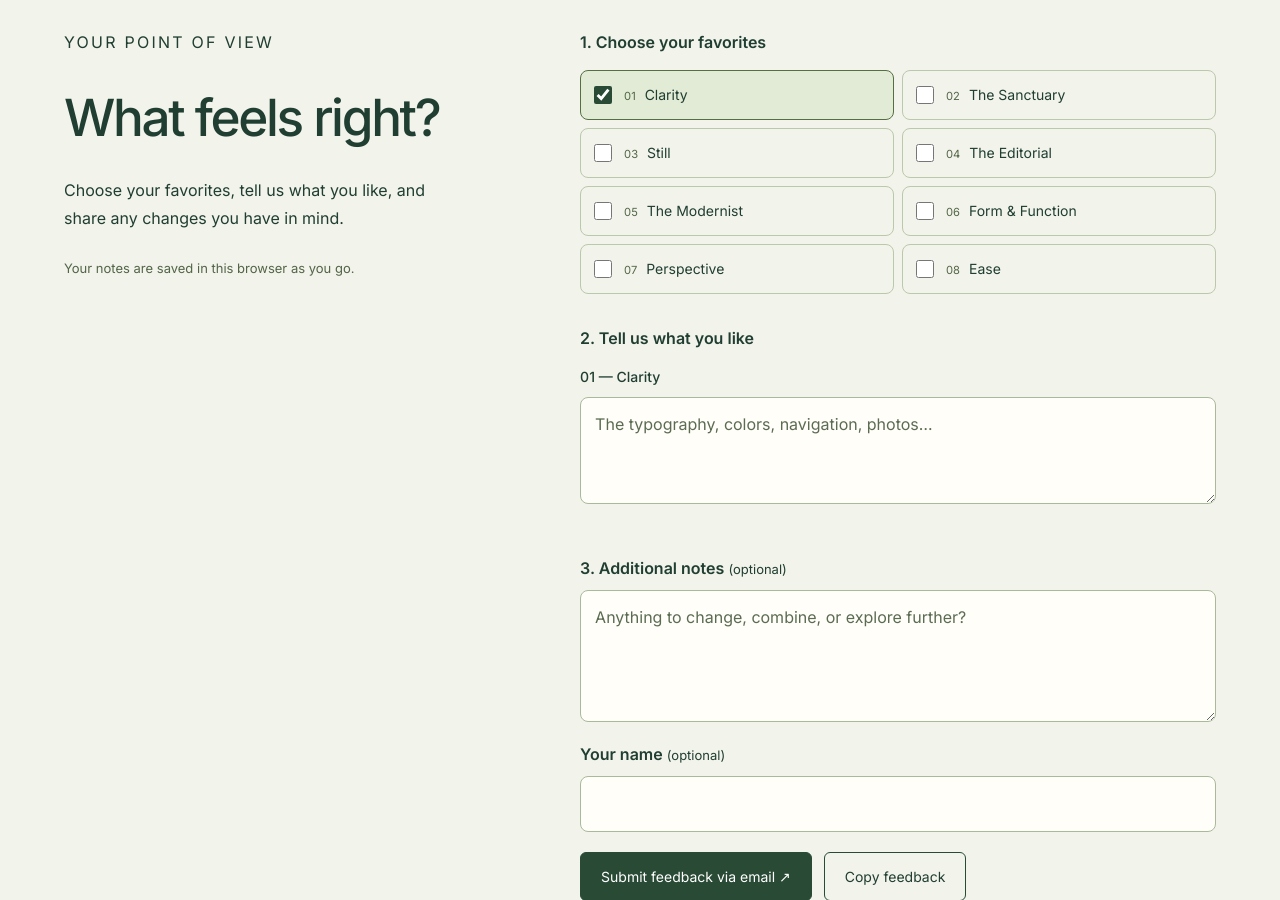
saves notes and synchronizes quick picks with card favorites
(page scrolled)
In the text box labelled "01 — Clarity": (898, 450) [580,397,1216,504], type "Love the navigation."
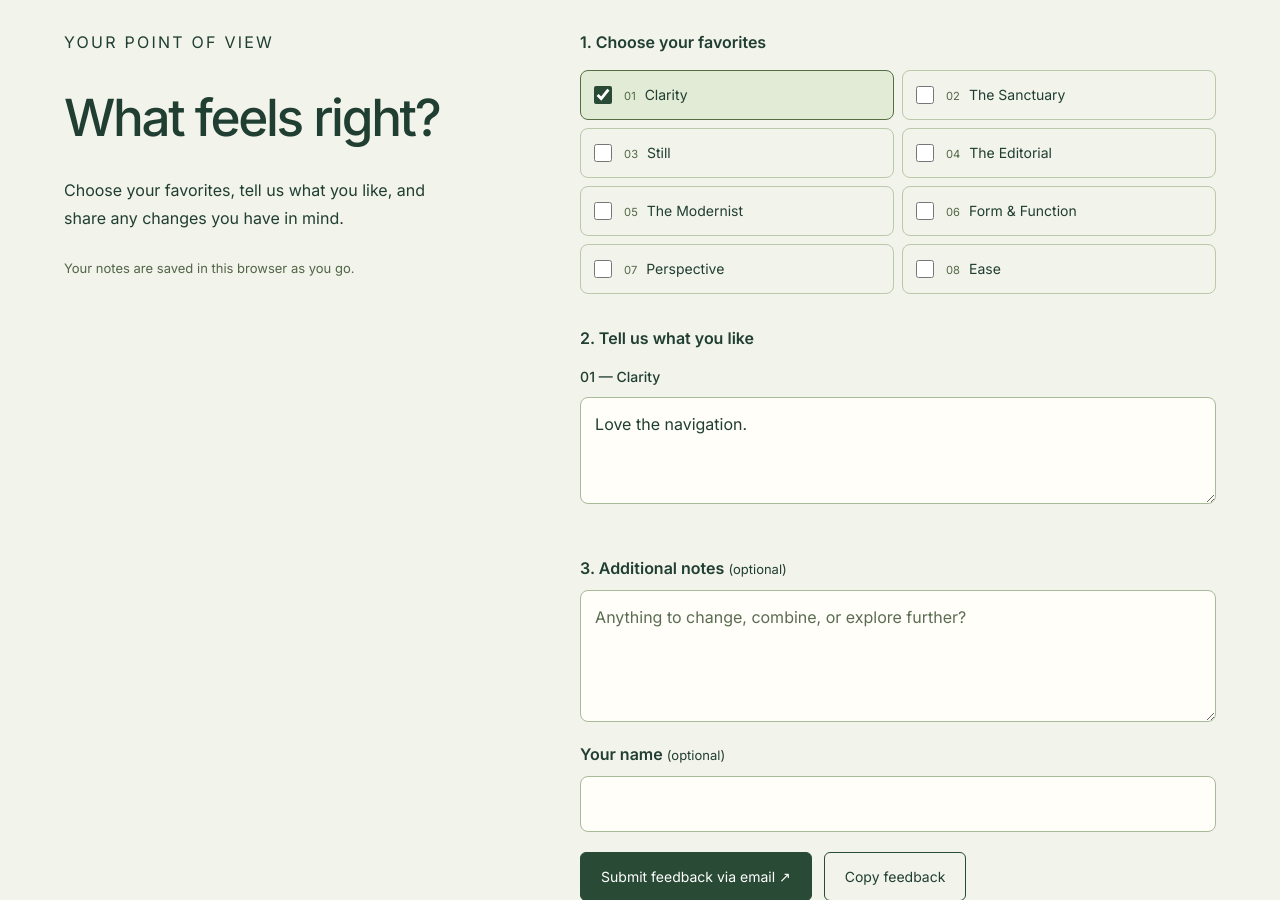
Click the checkbox labelled "03 Still": (603, 153) [594,144,612,162]
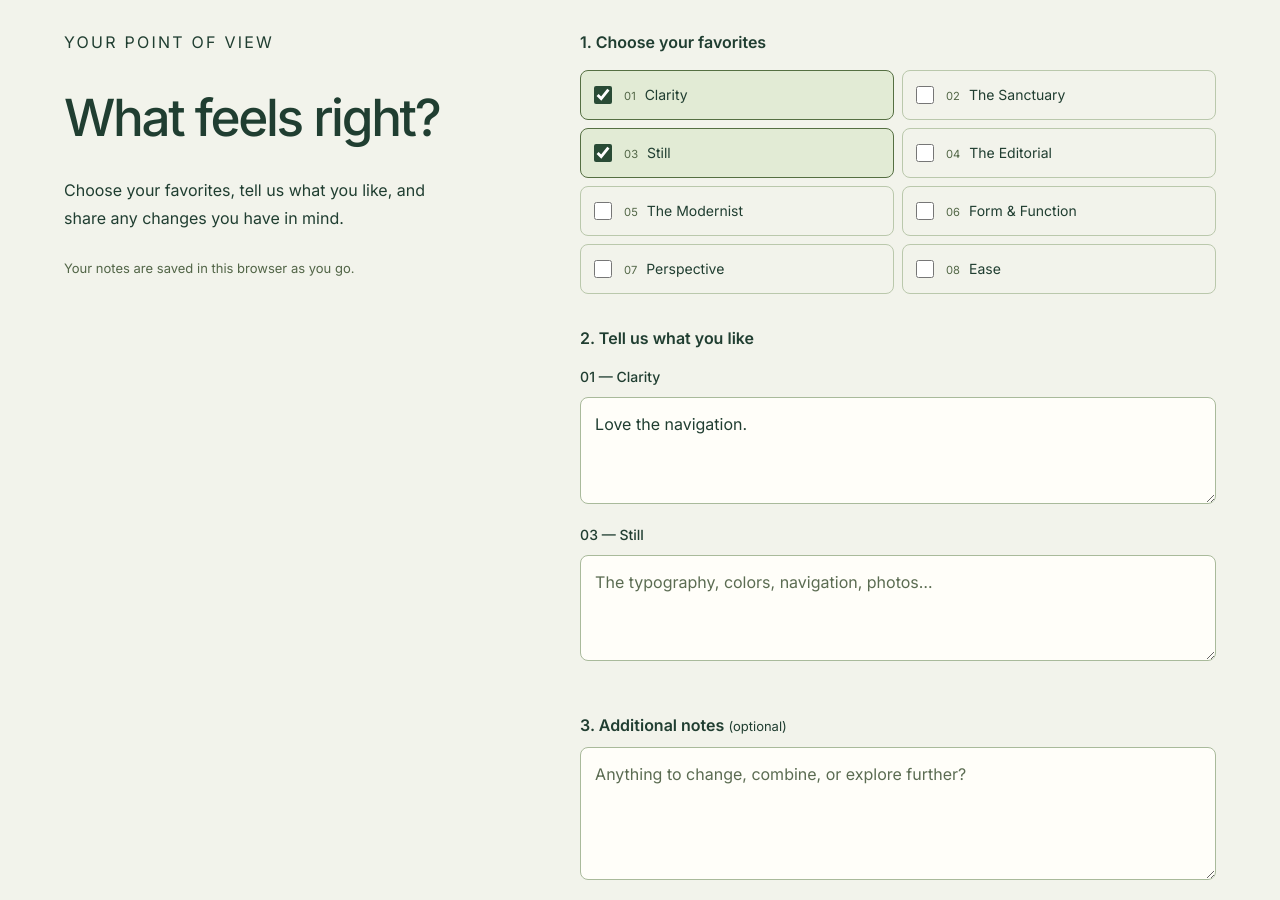
Click the checkbox labelled "01 Clarity": (603, 95) [594,86,612,104]
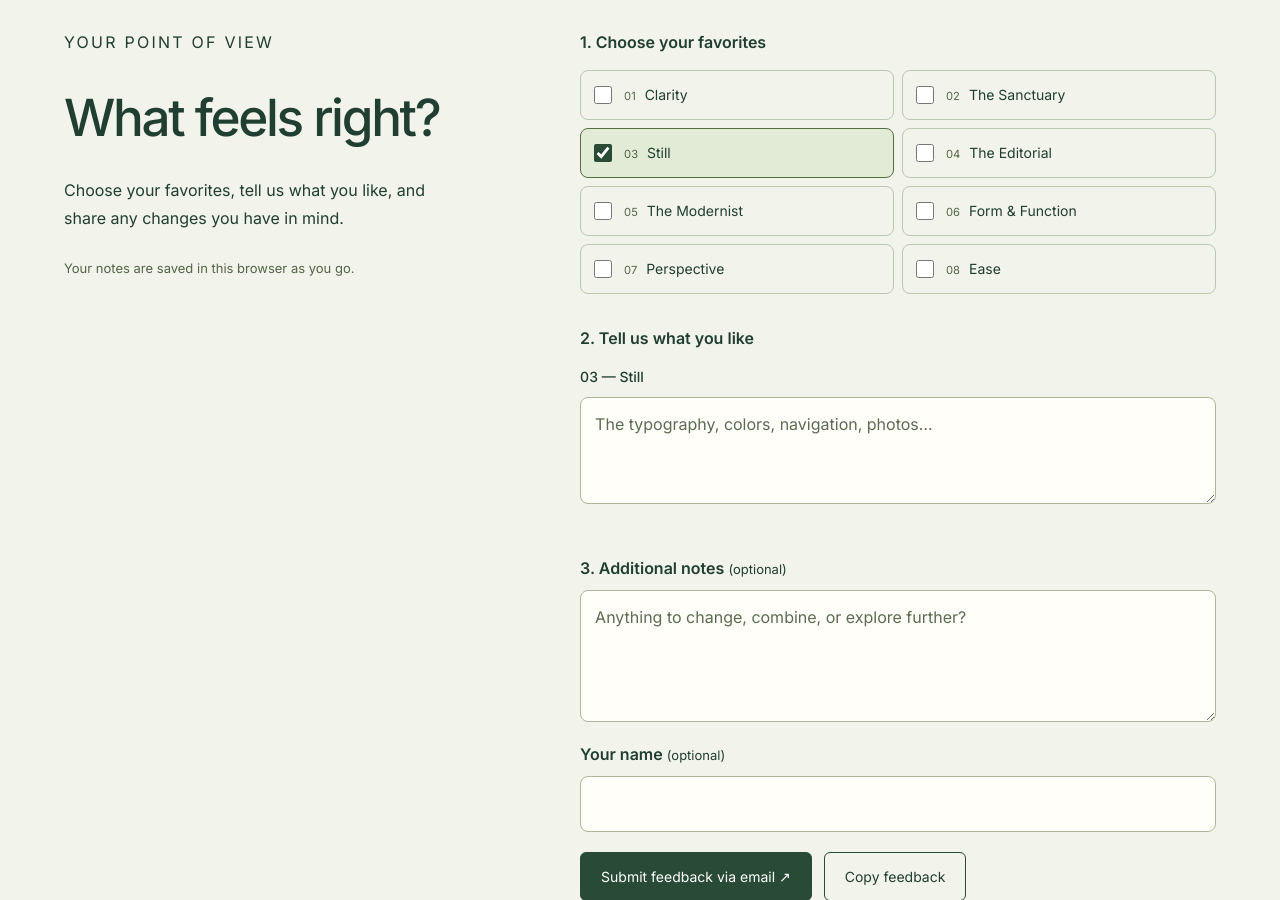
Click the checkbox labelled "03 Still": (603, 153) [594,144,612,162]
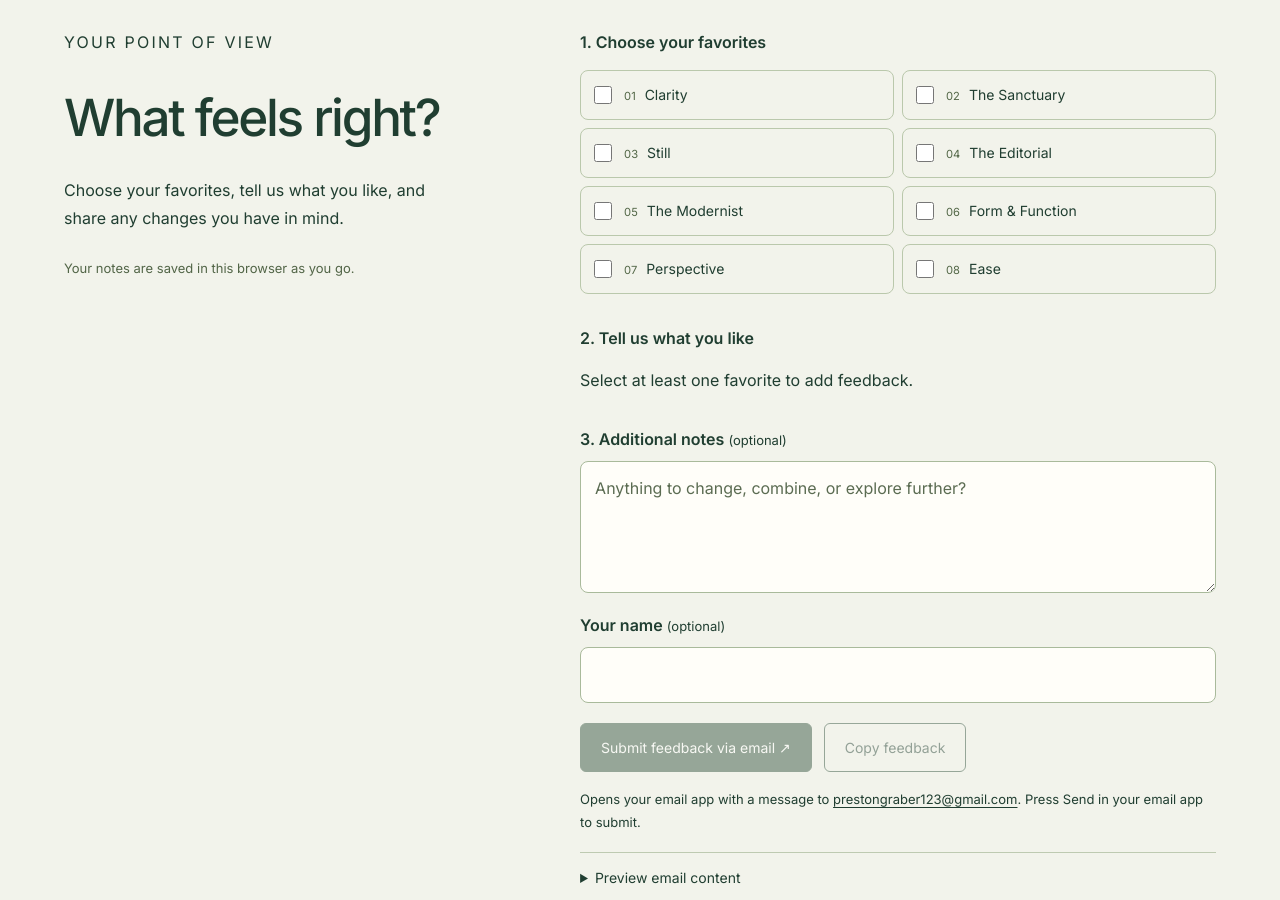
Check: the button "Submit feedback via email ↗" is disabled, box [580,722,812,772]
